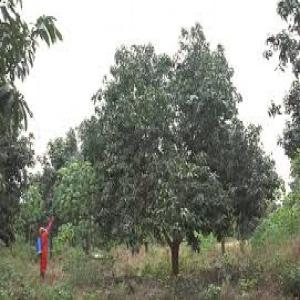Tree: (54, 19, 286, 271)
